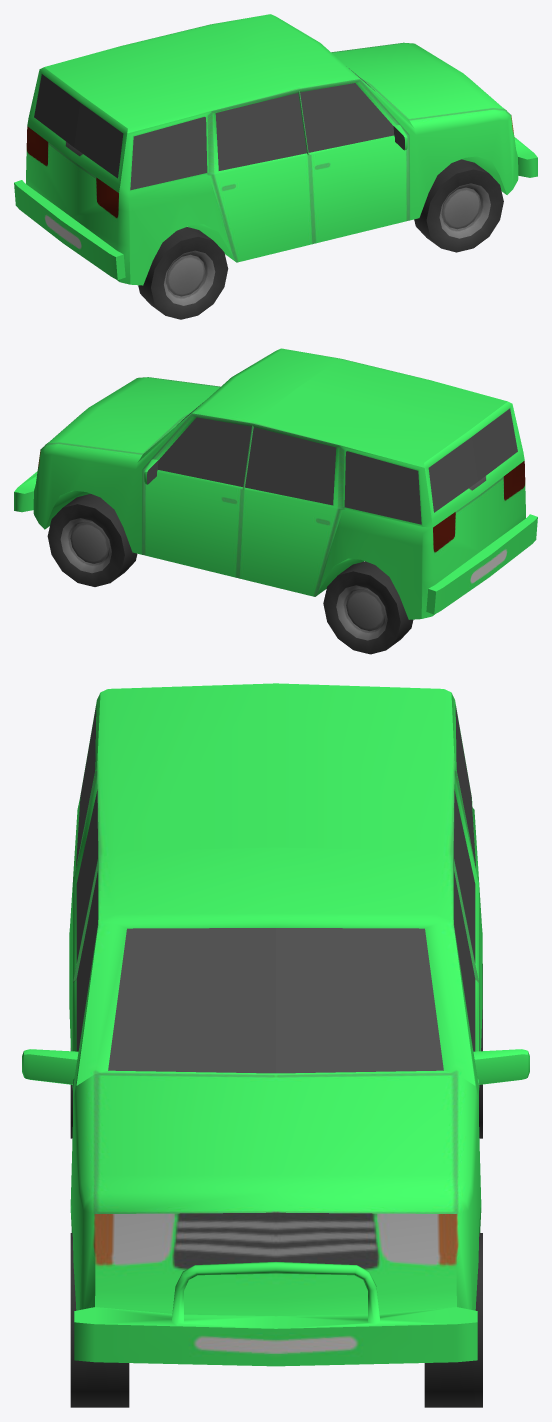
The model's file is Jeep.FBX.
3 renders of one model, top to bottom at view 1: azimuth 30°, elevation 25°; view 2: azimuth 150°, elevation 25°; view 3: azimuth 270°, elevation 25°, orthographic. The views are drawn at different scales.
Visible parts, largest first — view 1: Avto, Wheel FR, Wheel BR; view 2: Avto, Wheel FL, Wheel BL; view 3: Avto, Wheel FL, Wheel FR.
Boxes of the visible parts, bbox=[...] form: Avto: bbox=[14, 14, 537, 285]; Wheel FR: bbox=[414, 159, 503, 252]; Wheel BR: bbox=[138, 227, 228, 319]; Avto: bbox=[14, 348, 537, 619]; Wheel FL: bbox=[47, 494, 137, 586]; Wheel BL: bbox=[323, 561, 413, 654]; Avto: bbox=[22, 683, 529, 1366]; Wheel FL: bbox=[424, 1233, 482, 1407]; Wheel FR: bbox=[70, 1233, 129, 1407].
Size of the model in its own units: 54.53 by 23.89 by 27.76.
